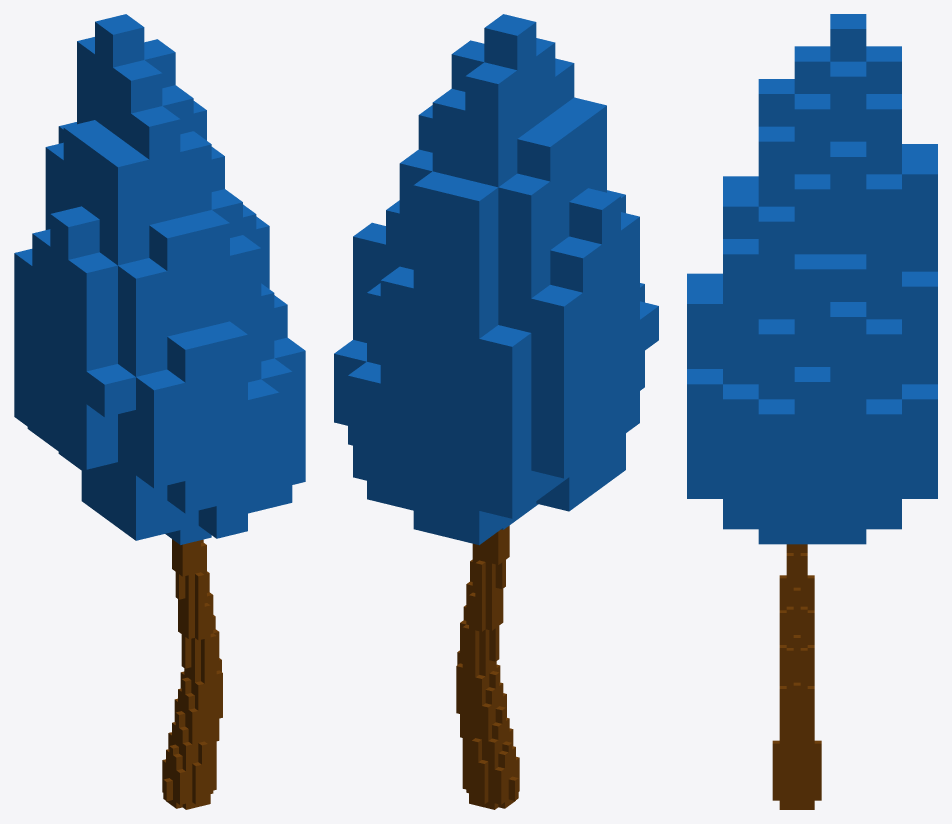
The model's file is Voxeltree_01_blue.glb.
3 renders of one model, left to right at view 1: azimuth 30°, elevation 25°; view 2: azimuth 150°, elevation 25°; view 3: azimuth 270°, elevation 25°, orthographic. The views are drawn at different scales.
Visible parts, largest first — view 1: Voxeltree_01_blue_Wood_0; view 2: Voxeltree_01_blue_Wood_0; view 3: Voxeltree_01_blue_Wood_0.
Part boxes in pixels (box(x1,y1,x2,y2)): Voxeltree_01_blue_Wood_0: box(14, 14, 305, 809); Voxeltree_01_blue_Wood_0: box(334, 14, 658, 809); Voxeltree_01_blue_Wood_0: box(687, 14, 937, 809).
Bounding box in the file's own units: 3.07 × 10.29 × 3.07.
